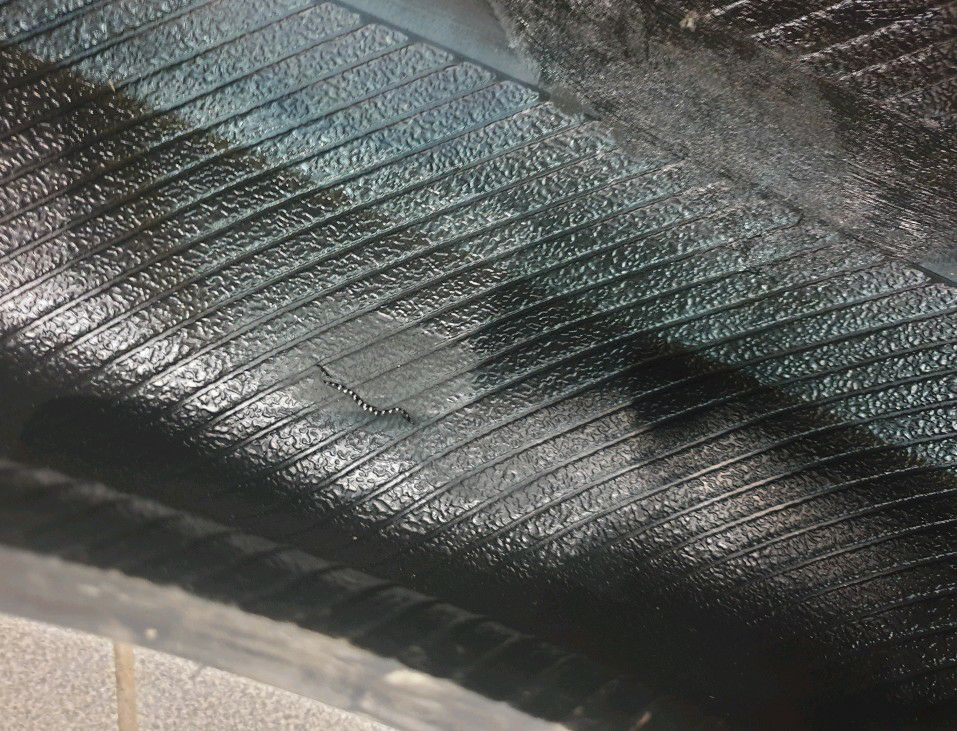CBU: (300, 358, 427, 432)
